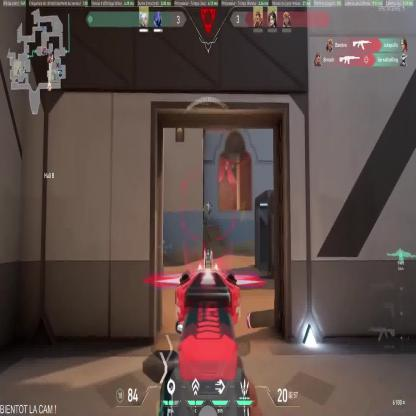enemy: (240, 200, 246, 221)
enemy_head: (243, 202, 245, 207)
